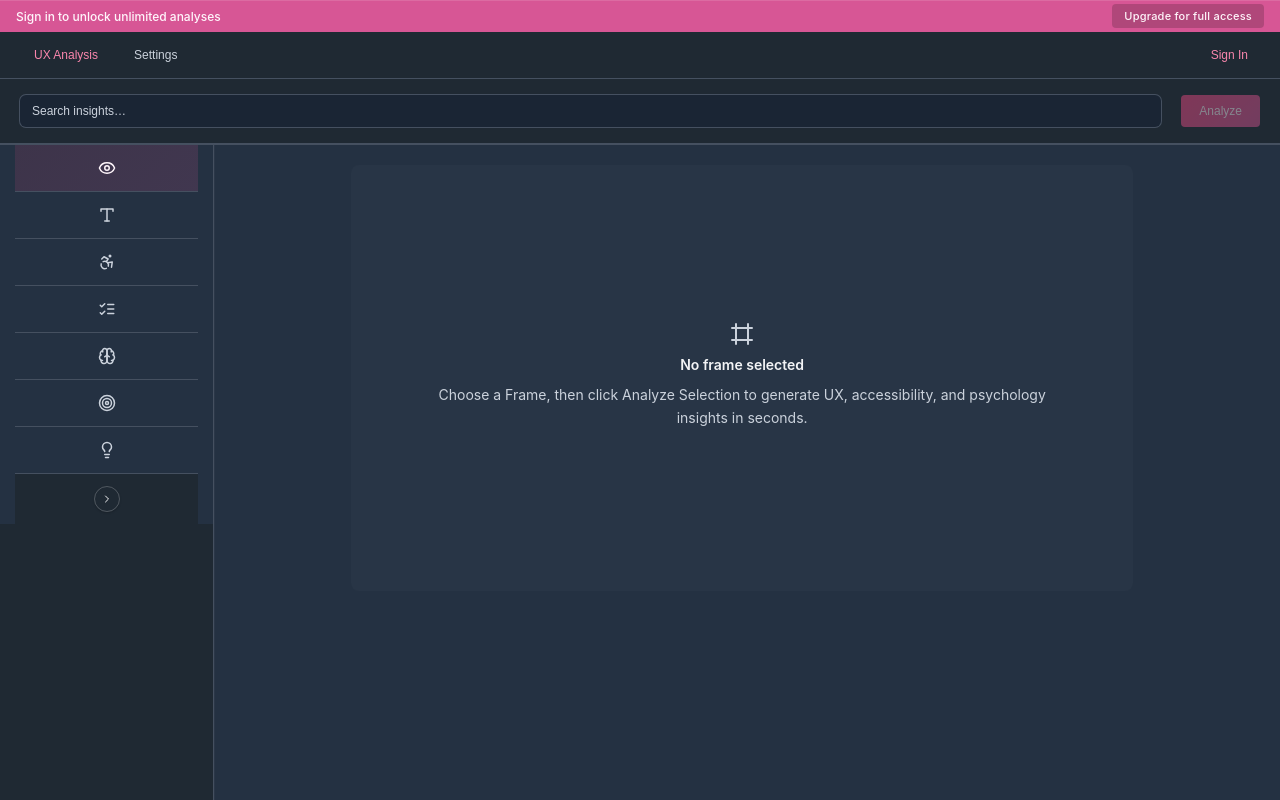
it: Sidebar collapse controls › mirrors aria-expanded state with toggle interactions
Click the button named "Expand sidebar" at x=107, y=499, box top-left (94, 486), bottom-right (120, 512)
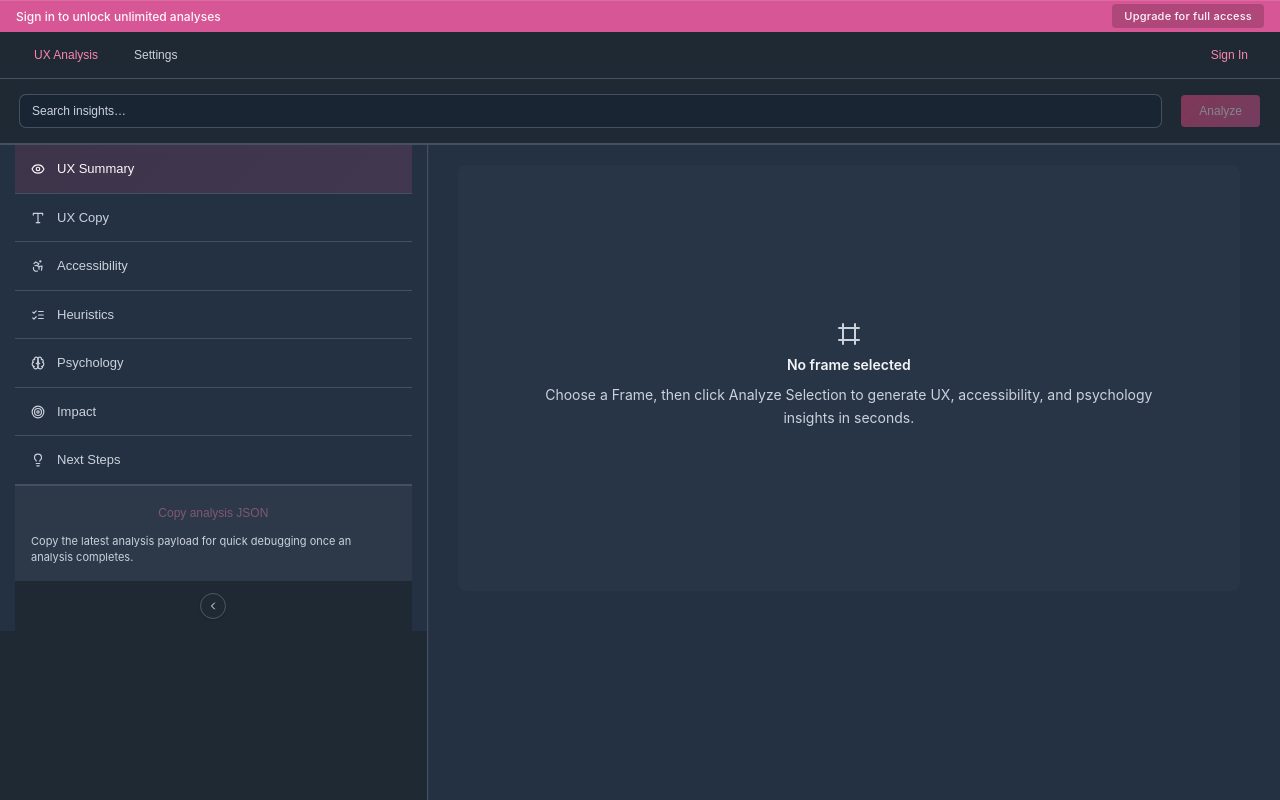
Expected: the button named "Collapse sidebar" is expanded
Click the button named "Collapse sidebar" at x=213, y=606, box top-left (200, 593), bottom-right (226, 619)
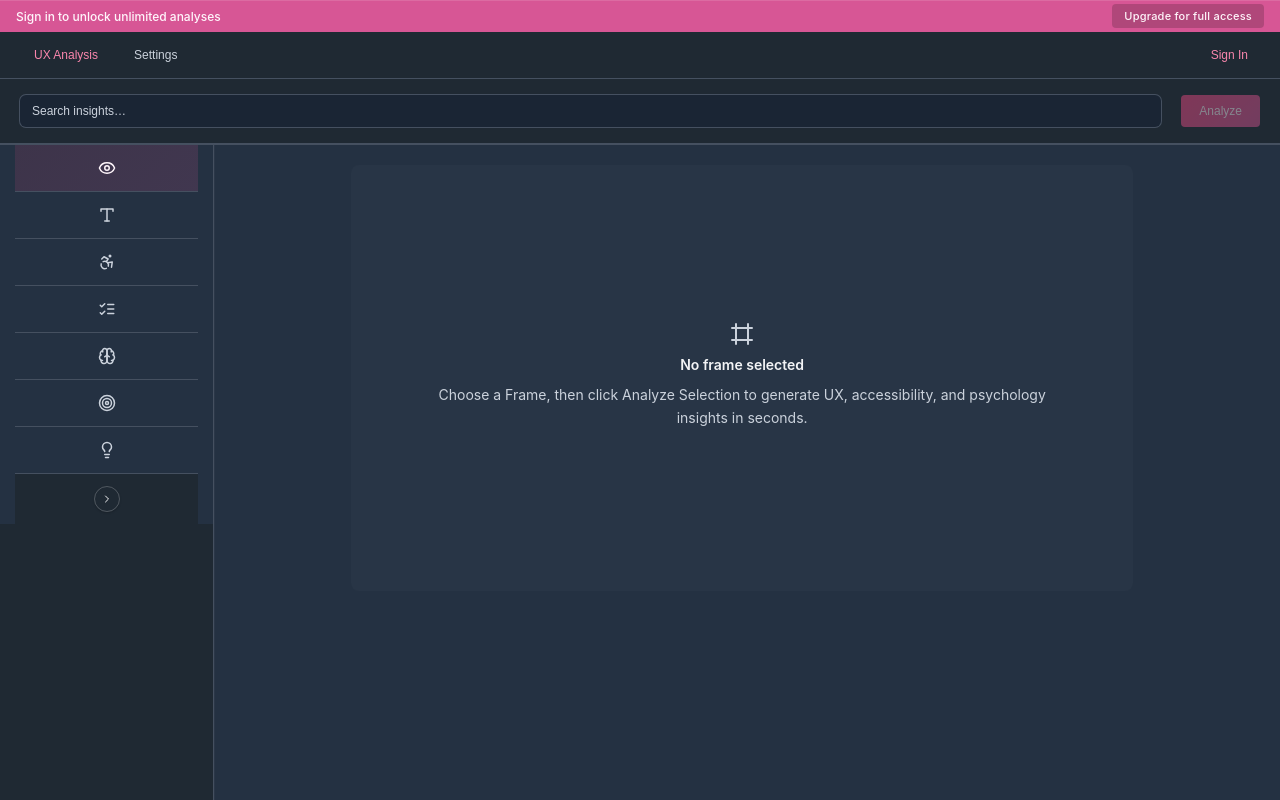
Expected: the button named "Expand sidebar" is collapsed, top-left (94, 486), bottom-right (120, 512)
